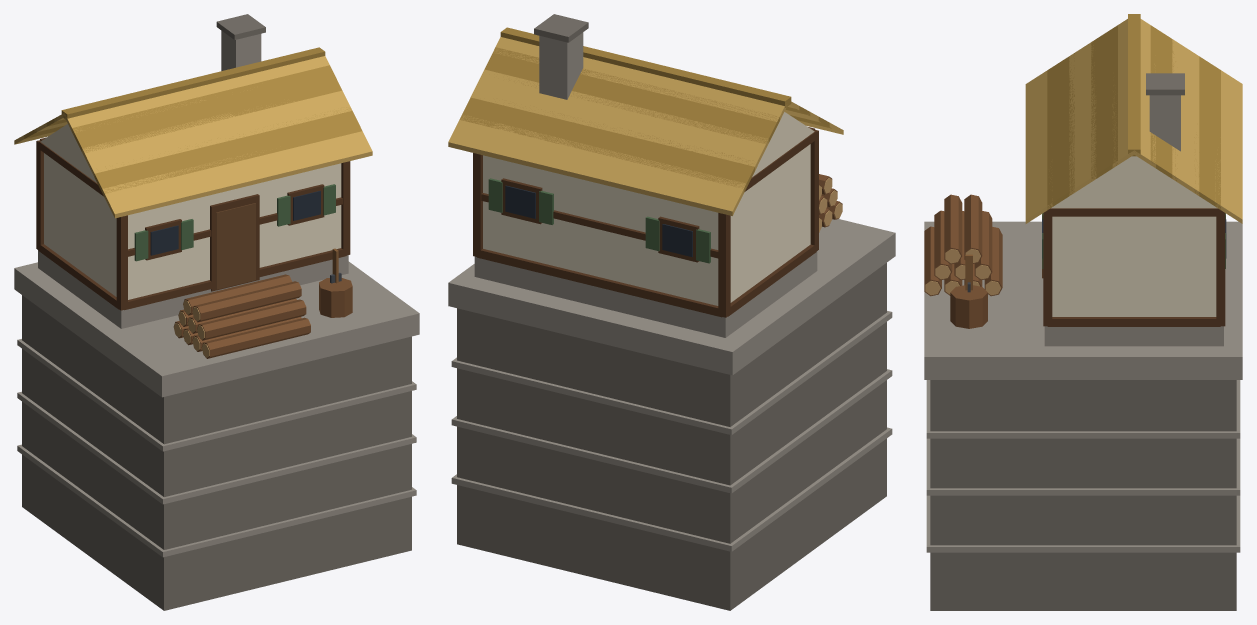
File: woodcutter.glb
3 renders of one model, left to right at view 1: azimuth 30°, elevation 25°; view 2: azimuth 150°, elevation 25°; view 3: azimuth 270°, elevation 25°, orthographic. The views are drawn at different scales.
Visible parts, largest first — view 1: woodcutter; view 2: woodcutter; view 3: woodcutter.
Boxes of the visible parts, x1,y1,x2,y2 form: woodcutter: [14, 14, 419, 610]; woodcutter: [448, 14, 895, 610]; woodcutter: [924, 14, 1242, 610].
Size of the model in its own units: 5.1 by 8.72 by 5.07.
